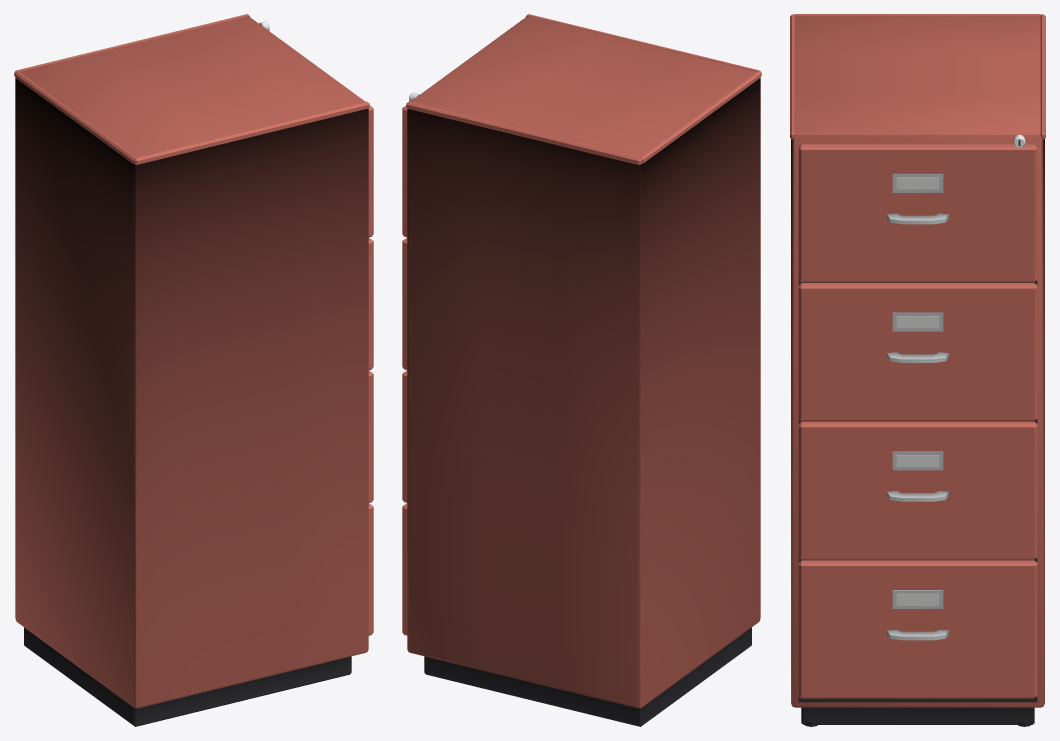
Rendered from cabinet.glb.
3 renders of one model, left to right at view 1: azimuth 30°, elevation 25°; view 2: azimuth 150°, elevation 25°; view 3: azimuth 270°, elevation 25°, orthographic. The views are drawn at different scales.
Visible parts, largest first — view 1: PART, DRAWER_3, DRAWER_4, DRAWER_2, DRAWER_1; view 2: PART, DRAWER_3, DRAWER_4, DRAWER_2, DRAWER_1; view 3: PART, DRAWER_2, DRAWER_3, DRAWER_4, DRAWER_1.
Part boxes in pixels (x1=…): PART: x1=14, y1=14, x2=369, y2=726; DRAWER_3: x1=368, y1=370, x2=373, y2=502; DRAWER_4: x1=368, y1=503, x2=373, y2=635; DRAWER_2: x1=368, y1=238, x2=373, y2=369; DRAWER_1: x1=368, y1=105, x2=373, y2=237; PART: x1=406, y1=14, x2=761, y2=726; DRAWER_3: x1=402, y1=370, x2=407, y2=502; DRAWER_4: x1=402, y1=503, x2=407, y2=635; DRAWER_2: x1=402, y1=238, x2=407, y2=369; DRAWER_1: x1=402, y1=105, x2=407, y2=237; PART: x1=790, y1=14, x2=1045, y2=726; DRAWER_2: x1=798, y1=283, x2=1037, y2=421; DRAWER_3: x1=798, y1=421, x2=1037, y2=559; DRAWER_4: x1=798, y1=560, x2=1037, y2=698; DRAWER_1: x1=798, y1=144, x2=1037, y2=282.
Bounding box in the file's own units: 0.6119 × 1.3 × 0.504.
